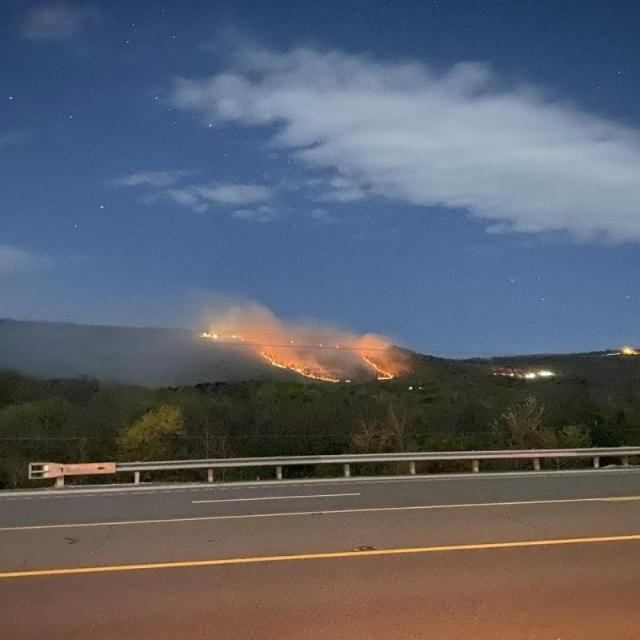Fire: (214, 312, 403, 376)
